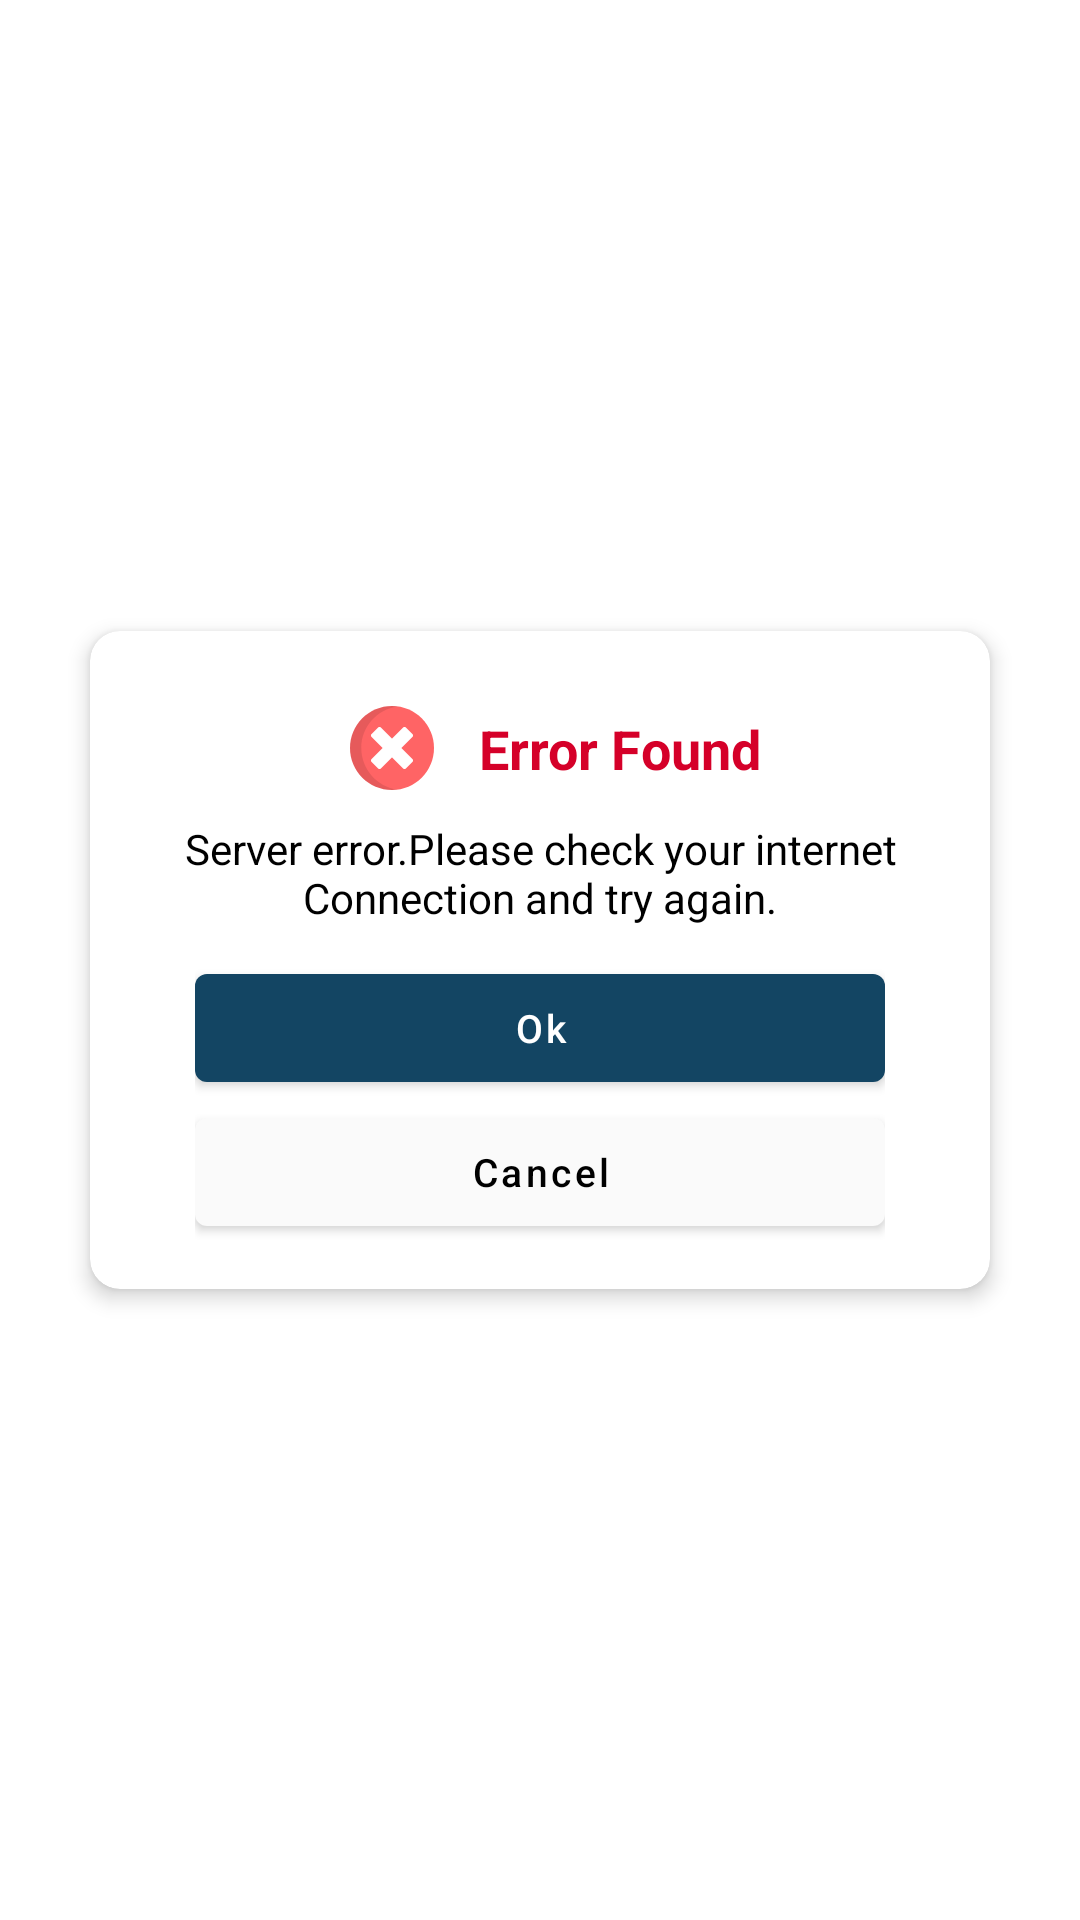

Screen size 1080 x 1920. Icon name, then its center in pixels as (x=x, y=y):
cancel close: (x=392, y=748)
